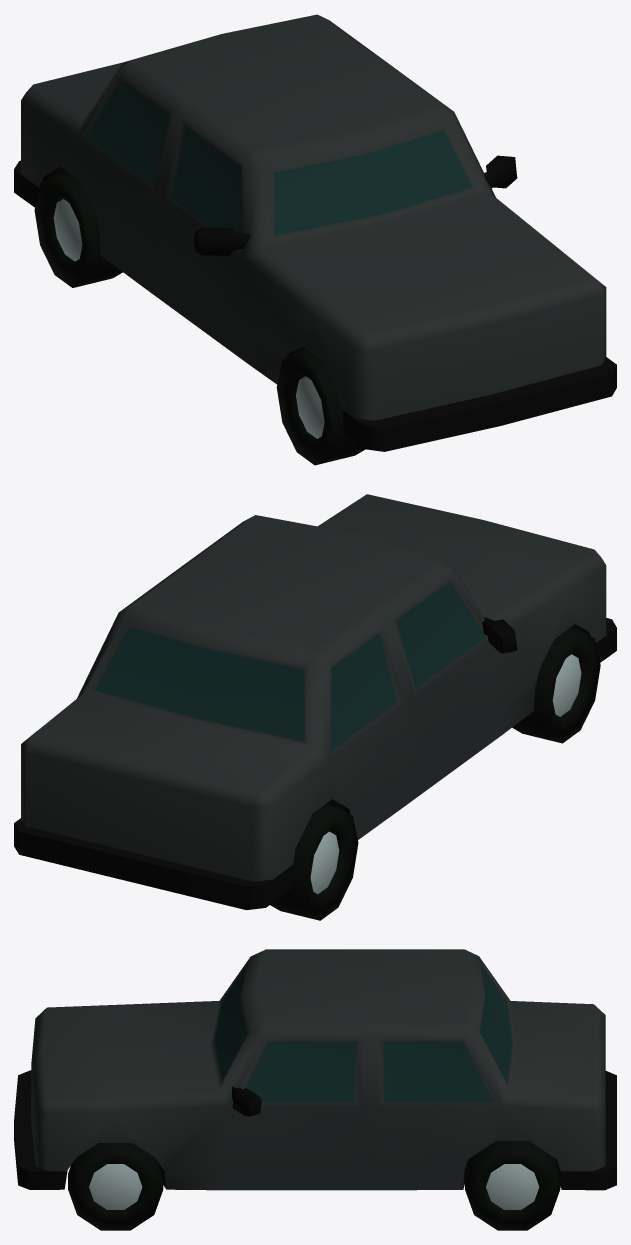
Rendered from car_basic.fbx.
The picture shows the model from 3 angles, top to bottom: view 1: azimuth 30°, elevation 25°; view 2: azimuth 150°, elevation 25°; view 3: azimuth 270°, elevation 25°; orthographic projection. The views are drawn at different scales.
Parts seen in each view (by area): view 1: pCylinder6; view 2: pCylinder6; view 3: pCylinder6.
Part boxes in pixels (x1,y1,x2,y2): pCylinder6: [14, 14, 616, 465]; pCylinder6: [14, 494, 616, 920]; pCylinder6: [14, 949, 616, 1230].
Bounding box in the file's own units: 105 × 72.97 × 208.
